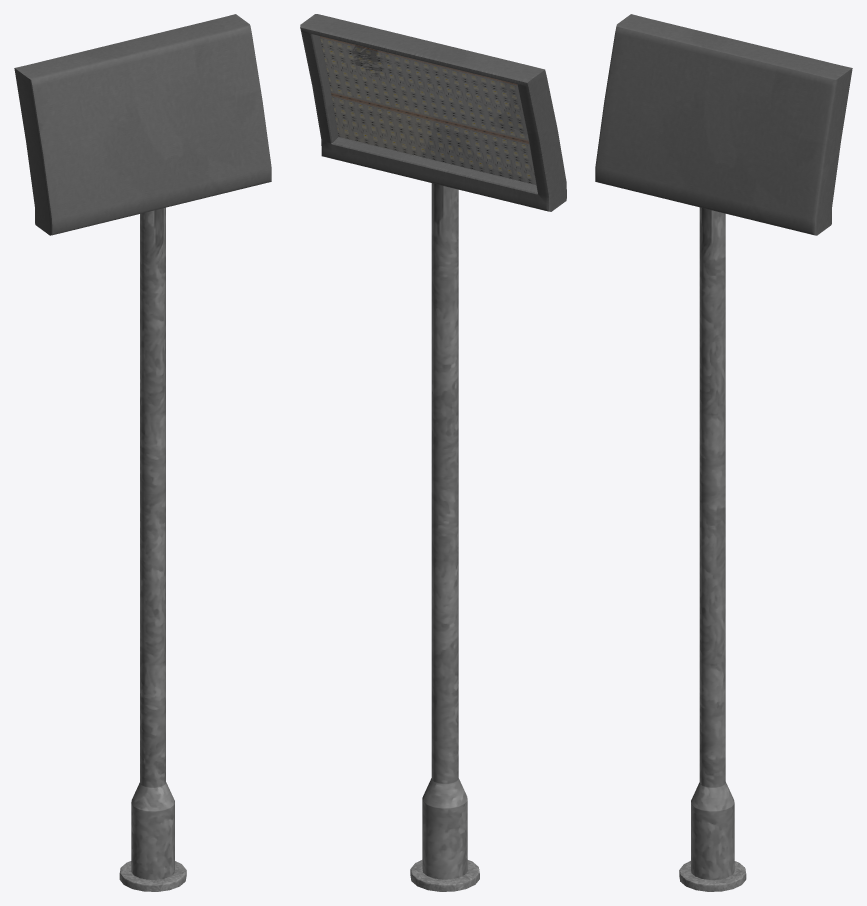
The model's file is Lights.glb.
The picture shows the model from 3 angles, left to right: view 1: azimuth 30°, elevation 25°; view 2: azimuth 150°, elevation 25°; view 3: azimuth 330°, elevation 25°; orthographic projection. The views are drawn at different scales.
Visible parts, largest first — view 1: Light_Lights, Light_Pole; view 2: Light_Lights, Light_Pole; view 3: Light_Lights, Light_Pole.
Boxes of the visible parts, left/top/right/bottom form: Light_Lights: left=14, top=14, right=271, bottom=235; Light_Pole: left=119, top=207, right=186, bottom=891; Light_Lights: left=300, top=14, right=566, bottom=211; Light_Pole: left=410, top=183, right=479, bottom=891; Light_Lights: left=595, top=14, right=852, bottom=235; Light_Pole: left=679, top=207, right=746, bottom=891.
Bounding box in the file's own units: 9.01 × 31.75 × 3.29.
1 material, 1 textured.
